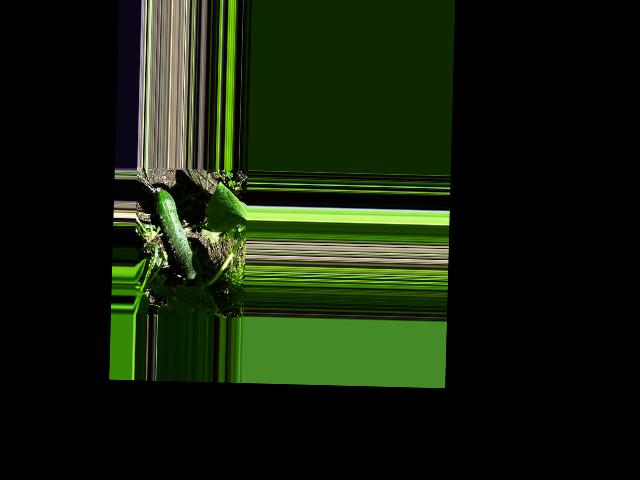cucumber: (151, 187, 204, 281)
